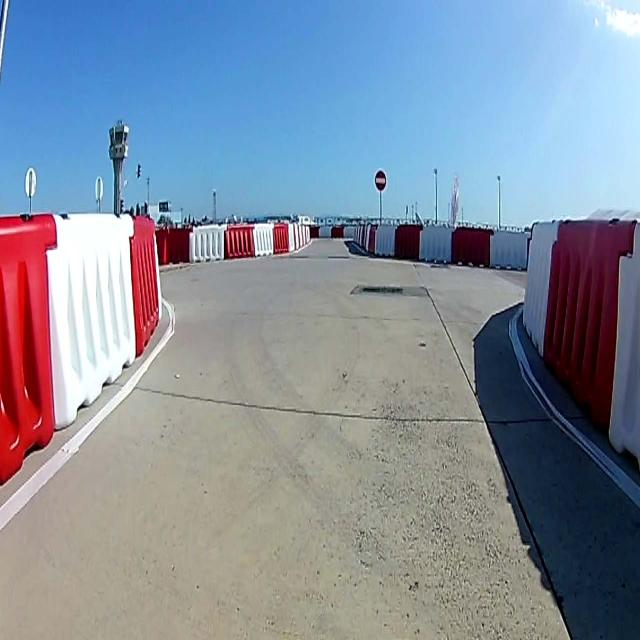girisyok: (375, 170, 387, 191)
